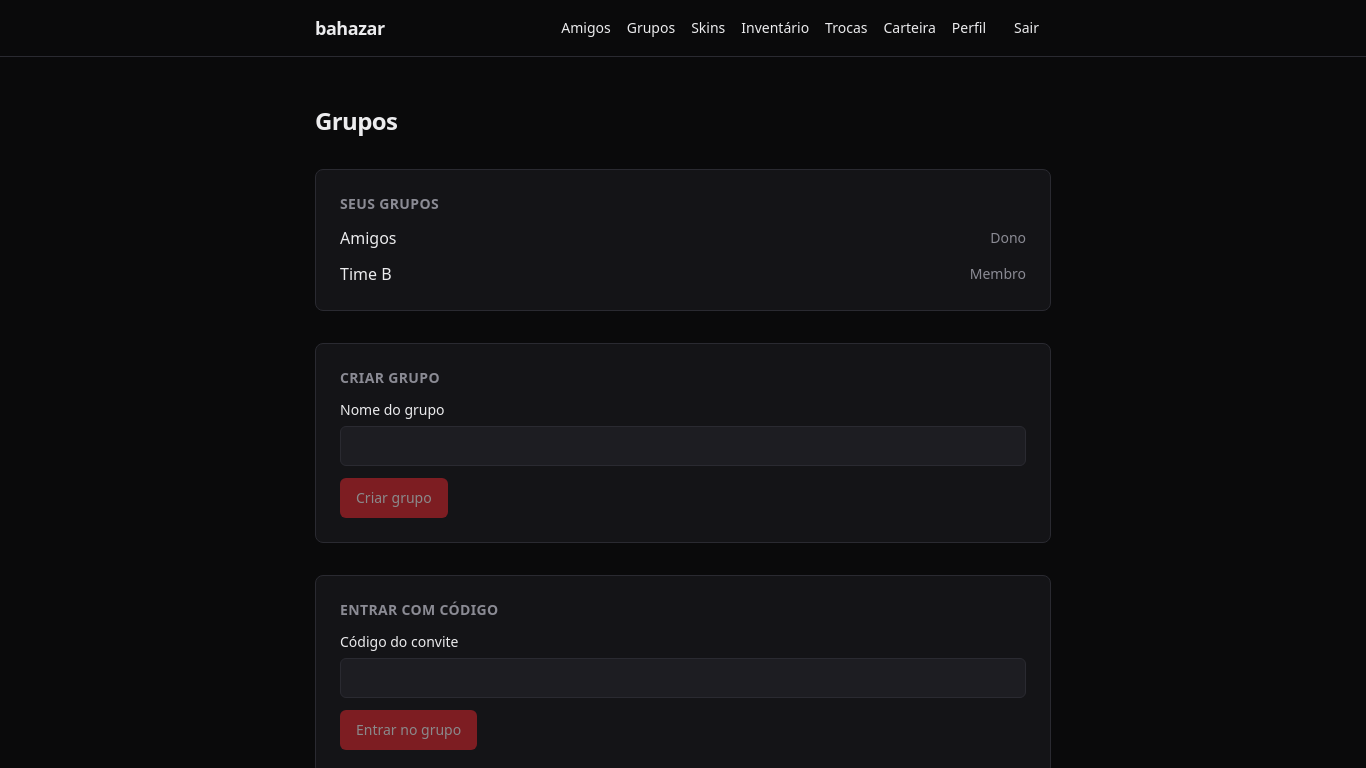
Scenario: RoomsPage › entra com o código no CORPO do POST (nunca na URL) e leva ao detalhe
Expected: the heading "Grupos" is shown, [315,104,397,137]
Expected: the link "Amigos" in the row of "Dono" is shown, [340,226,396,250]
Step 1. Type " segredo123 " into the field labelled "Código do convite" → (683, 678), box [340,658,1026,698]
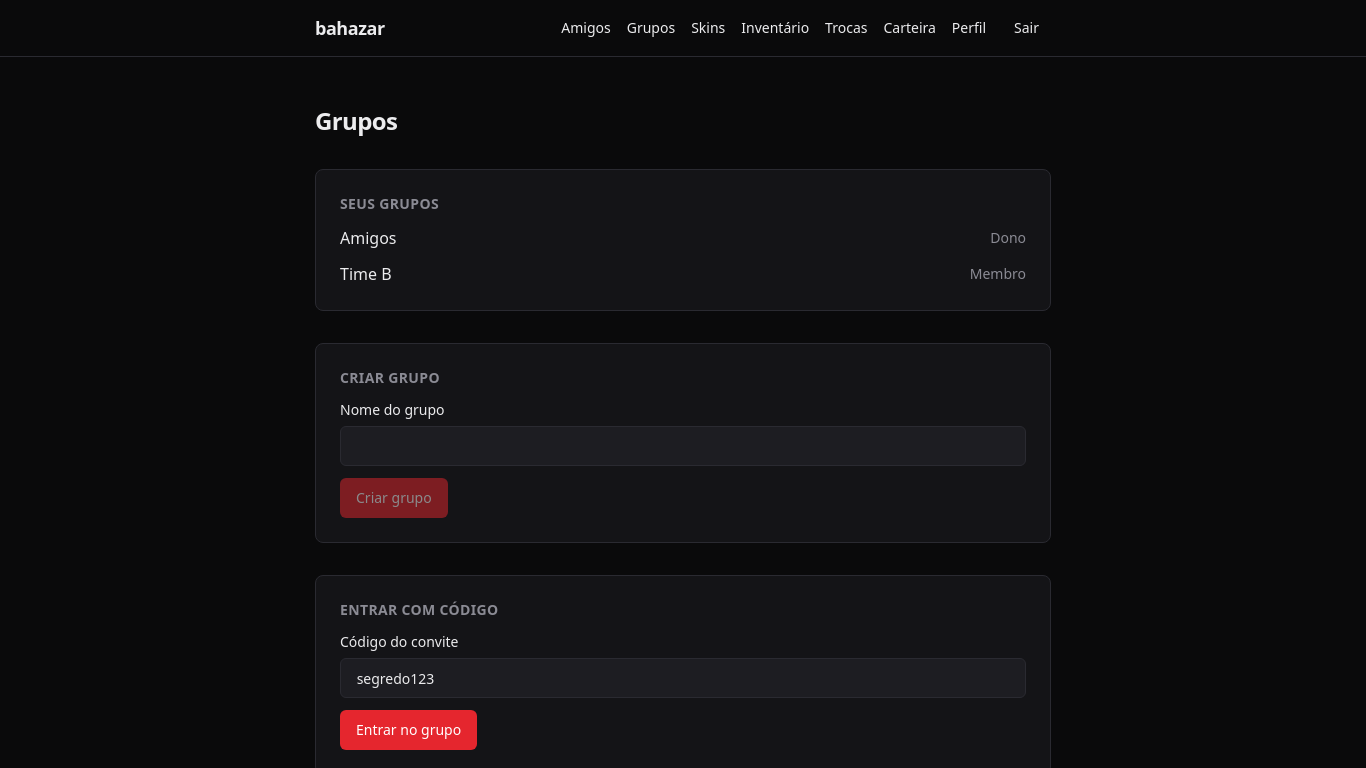
Step 2. Click the button "Entrar no grupo" → click(409, 730), box [340,710,477,750]
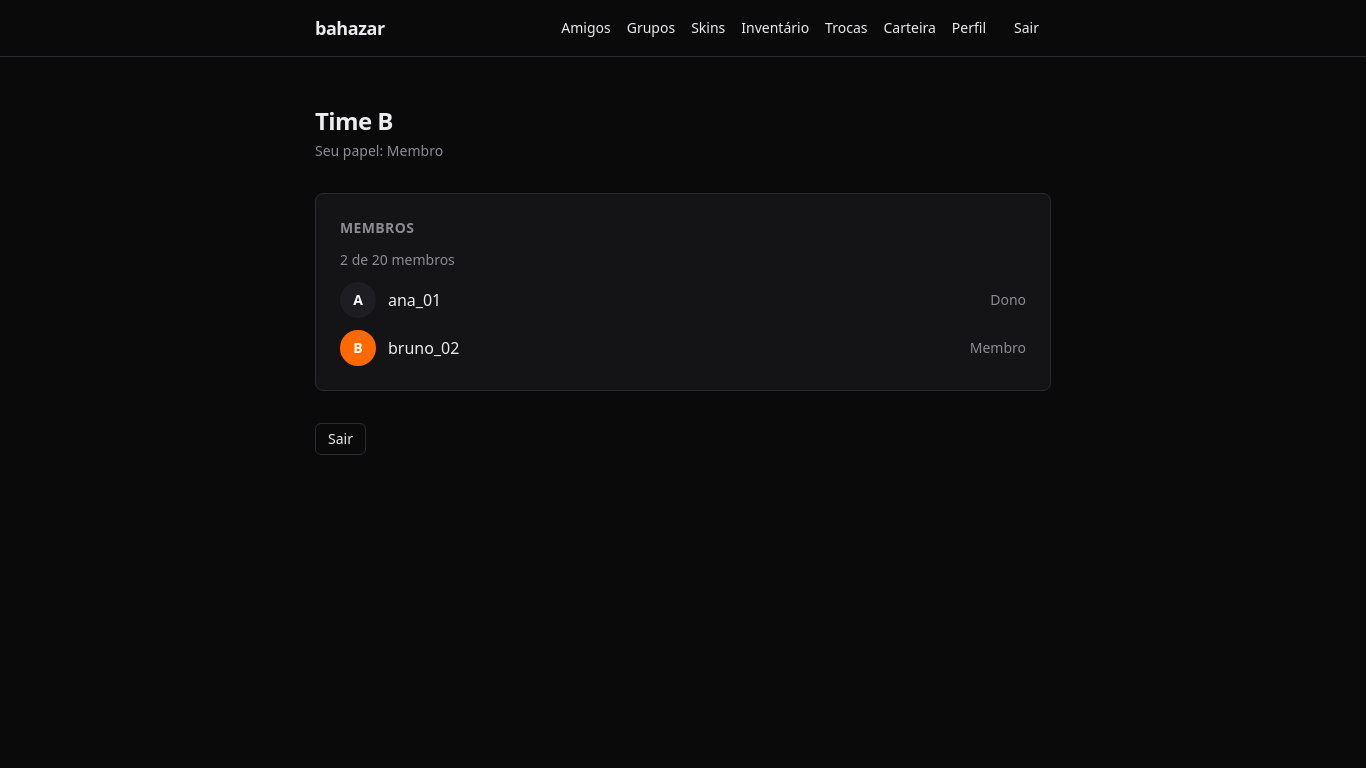
Expected: the heading "Time B" is shown, [315,104,393,137]
